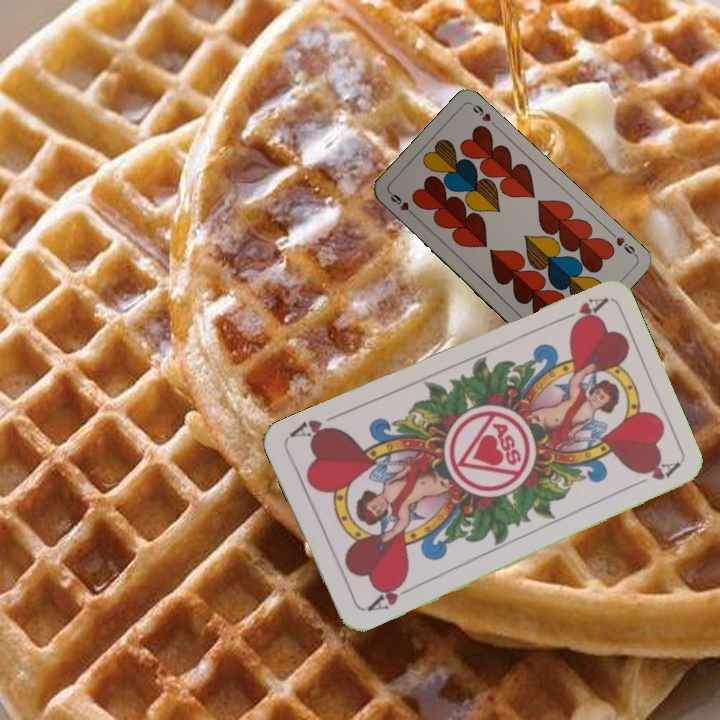H9: (385, 188, 418, 220), (612, 233, 639, 259)
HA: (359, 575, 416, 614), (552, 293, 608, 331)
